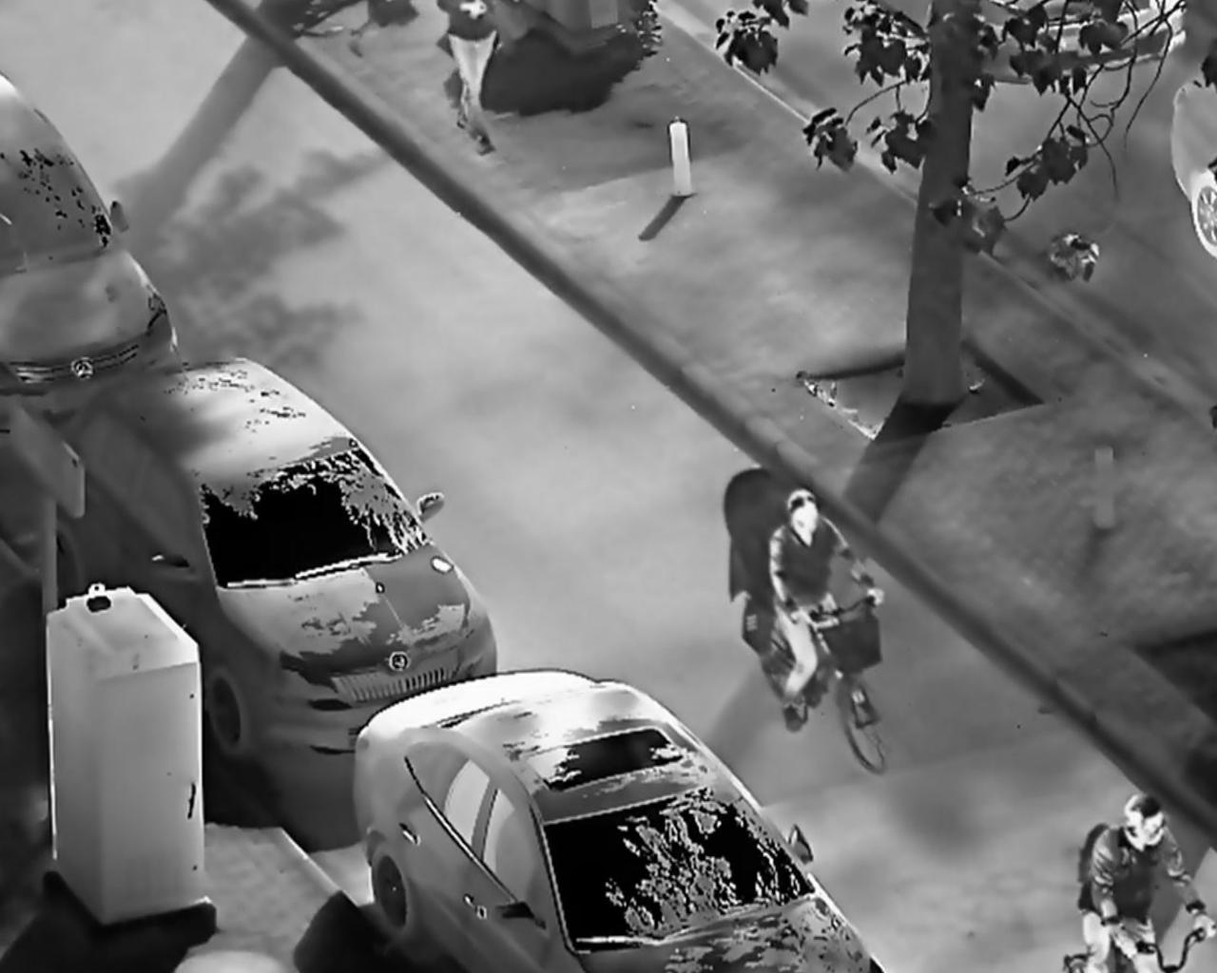person: (766, 486, 889, 716), (1079, 792, 1216, 973)
